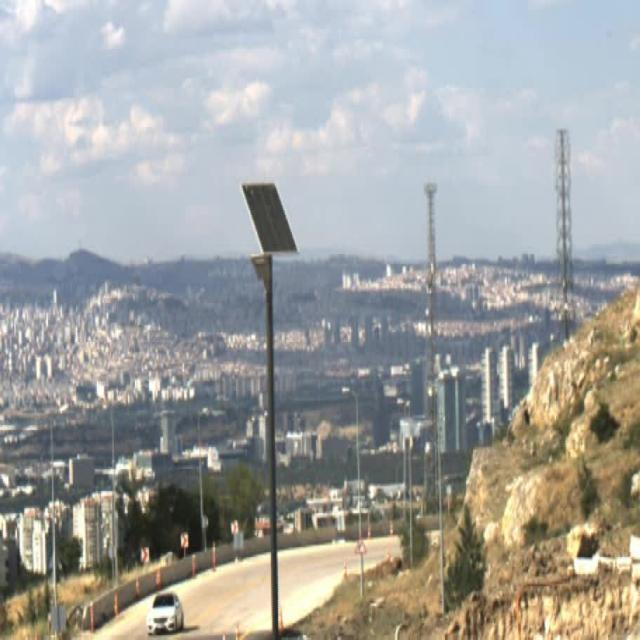Car: (146, 591, 184, 634)
